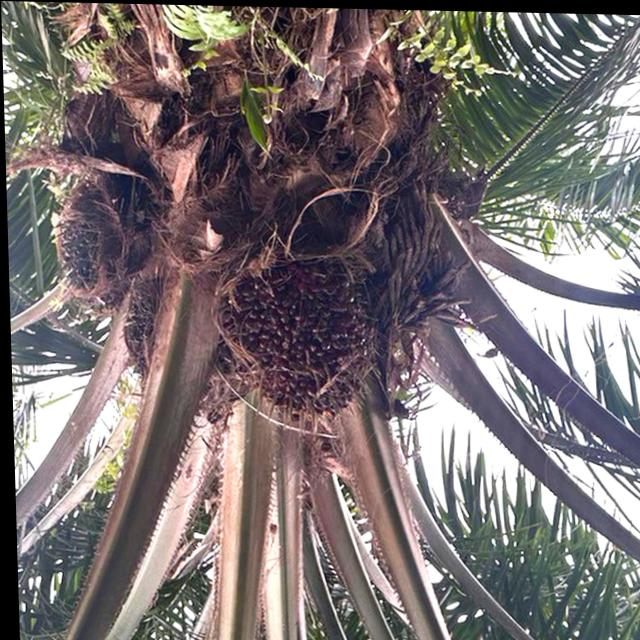ripe: (190, 241, 397, 442)
